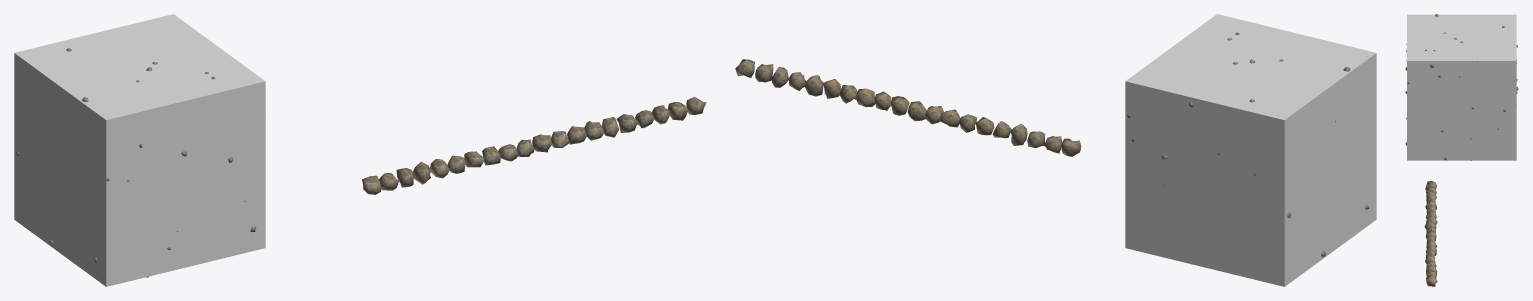
File: asteroids.glb
3 views of the same model, side by side, from view 1: azimuth 30°, elevation 25°; view 2: azimuth 150°, elevation 25°; view 3: azimuth 270°, elevation 25° (orthographic). The views are drawn at different scales.
Visible parts, largest first — view 1: Cube.020; view 2: Cube.020; view 3: Cube.020, Cube.019.
Boxes of the visible parts, x1,y1,x2,y2 form: Cube.020: (14, 14, 265, 286); Cube.020: (1125, 14, 1376, 286); Cube.020: (1407, 14, 1516, 160); Cube.019: (1426, 275, 1437, 286).
Size of the model in its own units: 124 by 32.91 by 32.88.
Materials: 2 (1 with a texture image).
